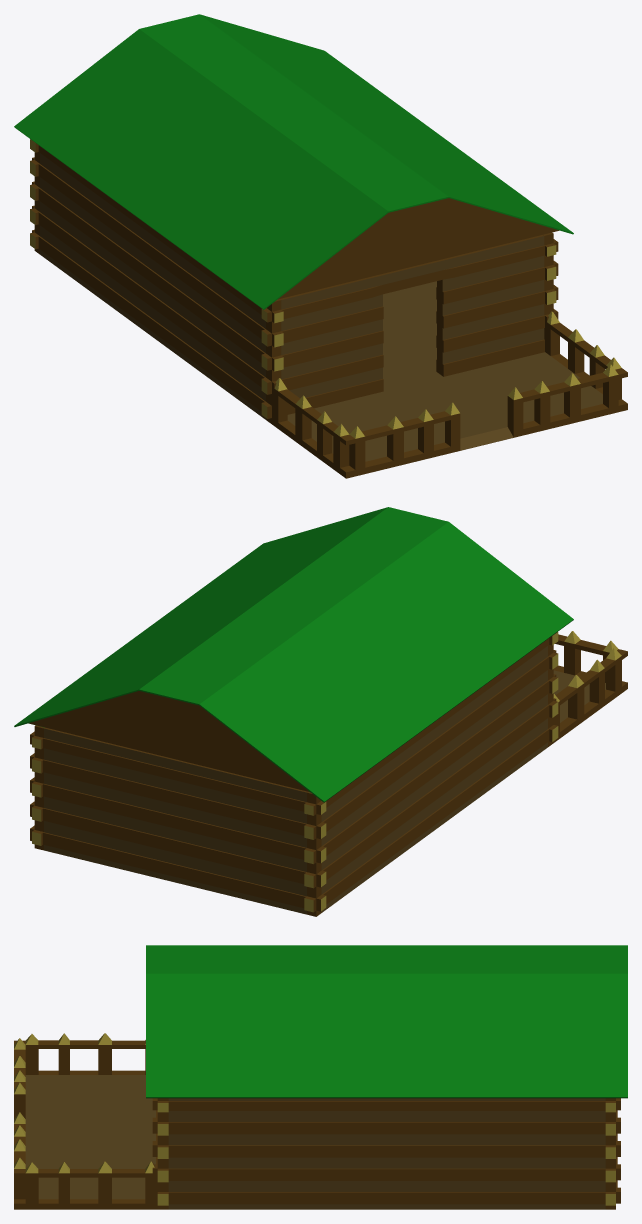
File: cabin.glb
The picture shows the model from 3 angles, top to bottom: view 1: azimuth 30°, elevation 25°; view 2: azimuth 150°, elevation 25°; view 3: azimuth 270°, elevation 25°; orthographic projection. The views are drawn at different scales.
Parts seen in each view (by area): view 1: Cube; view 2: Cube; view 3: Cube.
Boxes of the visible parts, <box> form: Cube: <box>14,14,627,478</box>; Cube: <box>14,507,627,916</box>; Cube: <box>14,945,627,1209</box>.
Size of the model in its own units: 24.28 by 14.2 by 43.01.
